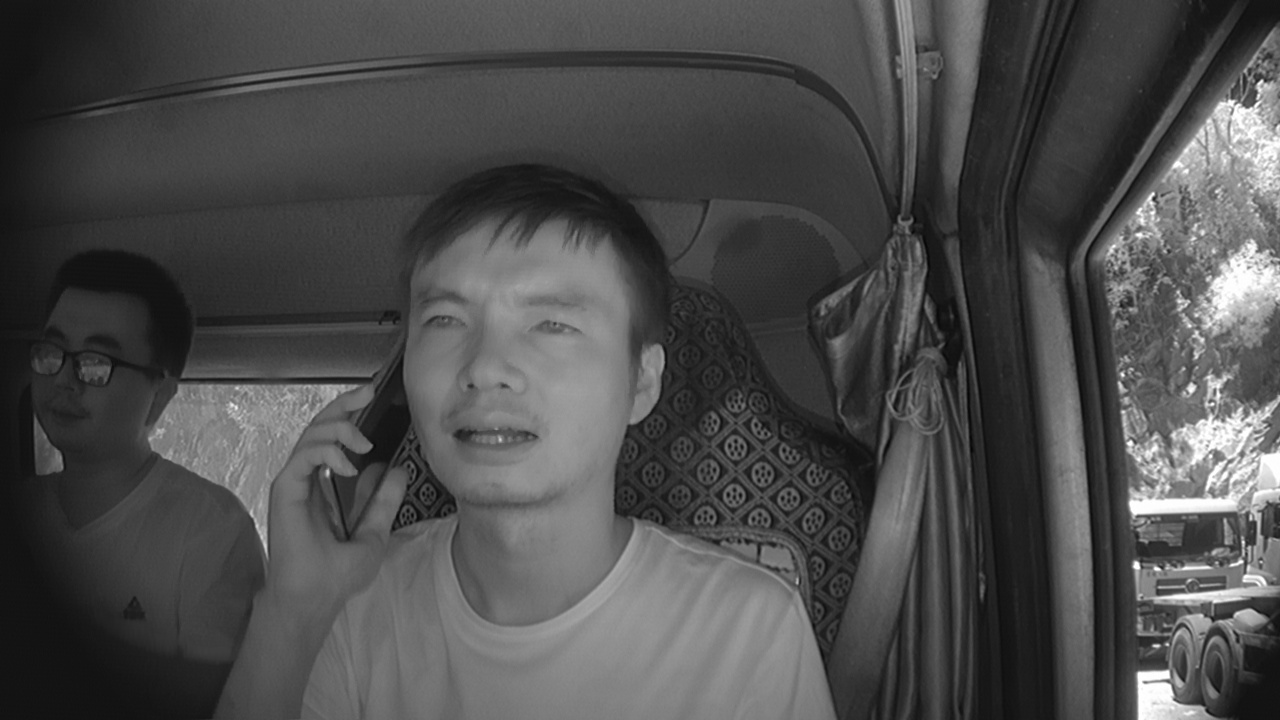hand: (251, 386, 405, 594)
